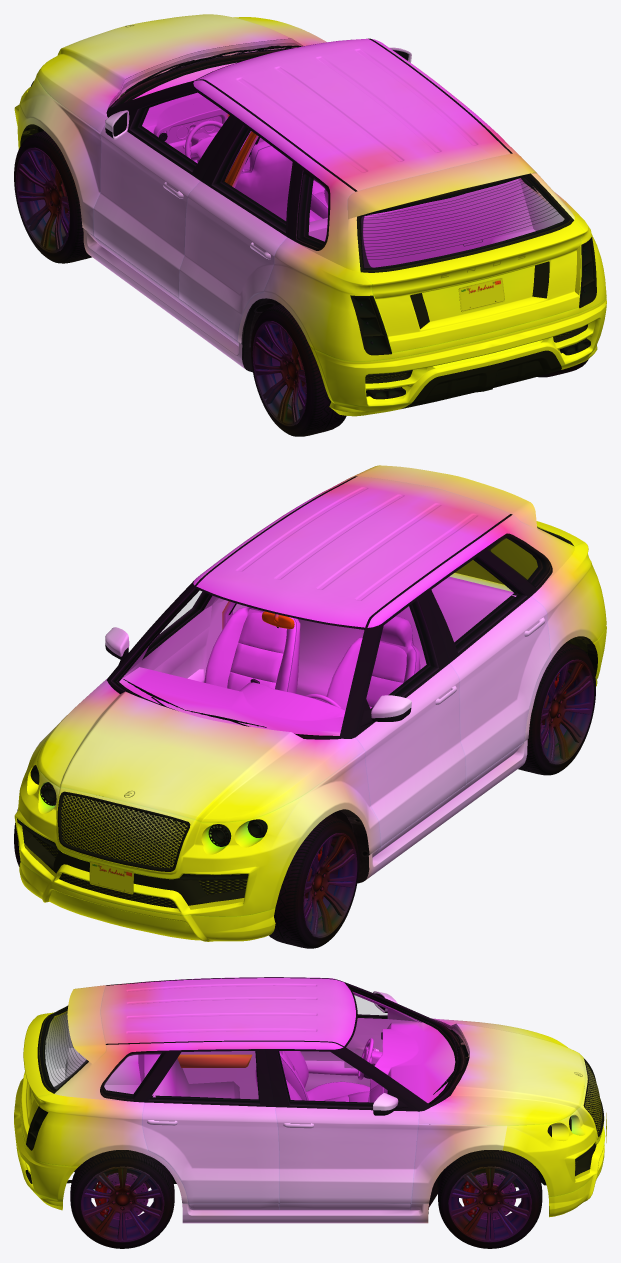
Rendered from huntley.glb.
3 views of the same model, one above another, from view 1: azimuth 30°, elevation 25°; view 2: azimuth 150°, elevation 25°; view 3: azimuth 270°, elevation 25° (orthographic). The views are drawn at different scales.
Parts seen in each view (by area): view 1: bodyshell, chassis, boot, door_dside_f, bumper_r, bonnet, door_dside_r, windscreen_r, wheel_lr, wheel_lf, window_lr, window_lf (+3 smaller); view 2: bodyshell, chassis, bonnet, door_dside_f, door_dside_r, wheel_lf, wheel_lr, bumper_f, door_pside_f, window_lr, window_lf, boot (+2 smaller); view 3: bodyshell, door_pside_f, chassis, door_pside_r, bonnet, wheel_rf, wheel_rr, window_rr, window_rf, door_dside_f, door_dside_r, boot (+4 smaller).
Boxes of the visible parts, x1=… form: bodyshell: x1=14, y1=38, x2=606, y2=369; chassis: x1=20, y1=45, x2=586, y2=396; boot: x1=356, y1=173, x2=584, y2=352; door_dside_f: x1=93, y1=88, x2=238, y2=308; bumper_r: x1=310, y1=297, x2=606, y2=416; bonnet: x1=37, y1=14, x2=326, y2=132; door_dside_r: x1=179, y1=119, x2=294, y2=346; windscreen_r: x1=359, y1=174, x2=570, y2=270; wheel_lr: x1=250, y1=304, x2=346, y2=436; wheel_lf: x1=14, y1=131, x2=91, y2=263; window_lr: x1=213, y1=126, x2=291, y2=231; window_lf: x1=131, y1=92, x2=228, y2=170; bodyshell: x1=14, y1=465, x2=606, y2=916; chassis: x1=28, y1=536, x2=592, y2=883; bonnet: x1=37, y1=678, x2=364, y2=822; door_dside_f: x1=355, y1=591, x2=465, y2=856; door_dside_r: x1=424, y1=553, x2=550, y2=794; wheel_lf: x1=269, y1=816, x2=359, y2=948; wheel_lr: x1=518, y1=643, x2=595, y2=775; bumper_f: x1=19, y1=859, x2=275, y2=941; door_pside_f: x1=105, y1=591, x2=216, y2=682; window_lr: x1=432, y1=557, x2=525, y2=651; window_lf: x1=367, y1=600, x2=437, y2=708; boot: x1=455, y1=521, x2=583, y2=584; bodyshell: x1=20, y1=977, x2=606, y2=1223; door_pside_f: x1=265, y1=1049, x2=419, y2=1209; chassis: x1=45, y1=983, x2=589, y2=1213; door_pside_r: x1=142, y1=1049, x2=279, y2=1209; bonnet: x1=418, y1=1018, x2=585, y2=1125; wheel_rf: x1=438, y1=1150, x2=542, y2=1248; wheel_rr: x1=70, y1=1150, x2=174, y2=1248; window_rr: x1=150, y1=1051, x2=259, y2=1103; window_rf: x1=278, y1=1051, x2=387, y2=1107; door_dside_f: x1=300, y1=991, x2=418, y2=1091; door_dside_r: x1=177, y1=1051, x2=258, y2=1099; boot: x1=20, y1=1005, x2=88, y2=1142.
Size of the model in its own units: 2.09 by 1.64 by 4.6.
Materials: 17 (12 with a texture image).
